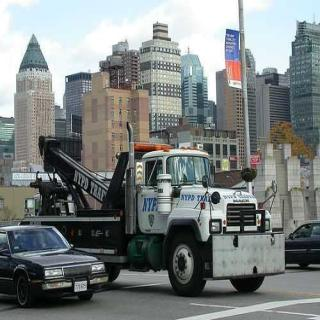Towing_truck: (18, 120, 286, 297)
